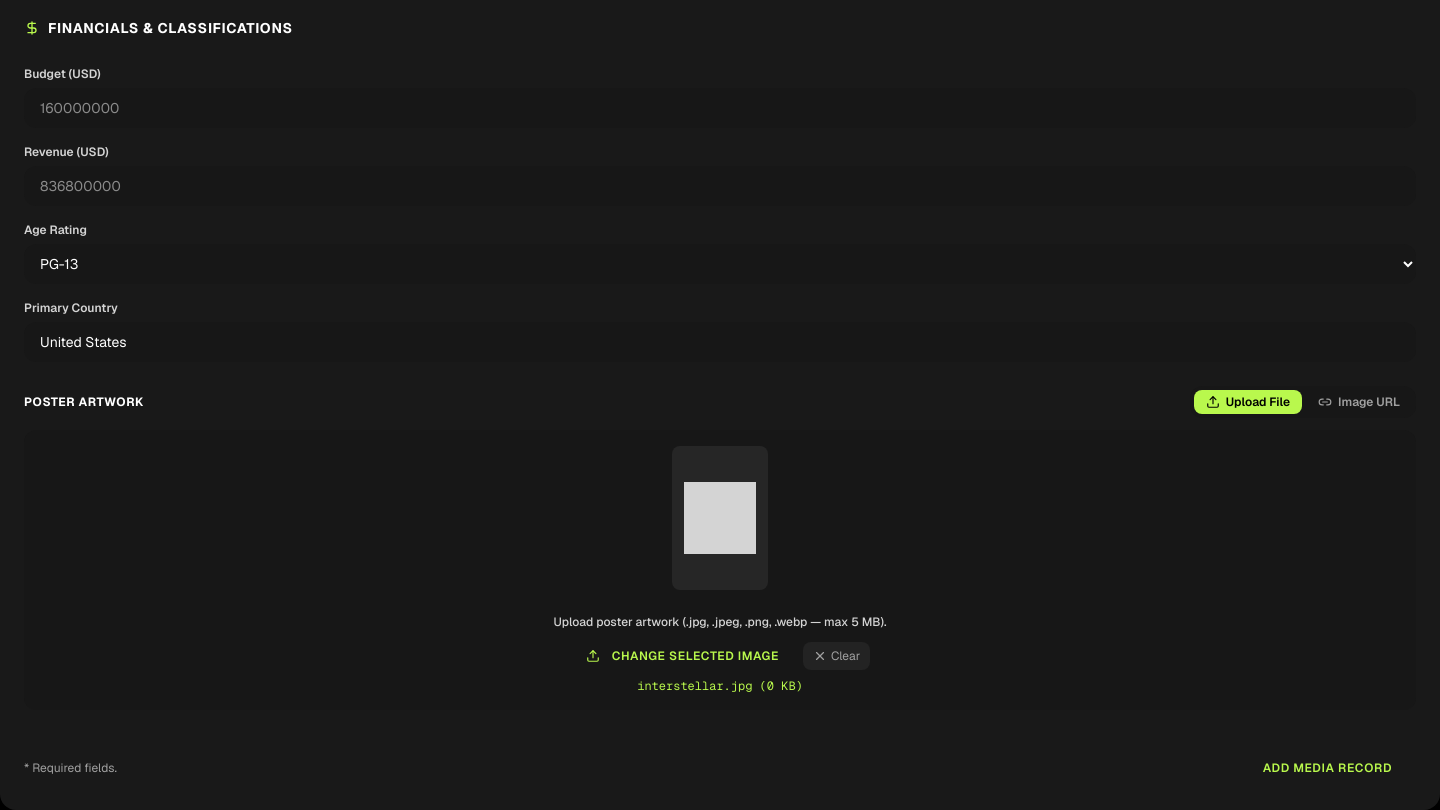
Test: AddMediaForm › uploads poster, submits parsed media payload, and resets form on success
Earlier steps of the test are not shown.
(page scrolled)
What coordinates should you click on to do the following:
click the button "Add Media Record"
I would click on:
 (1327, 768)
Its box is [1239,750,1416,786].
(page scrolled)
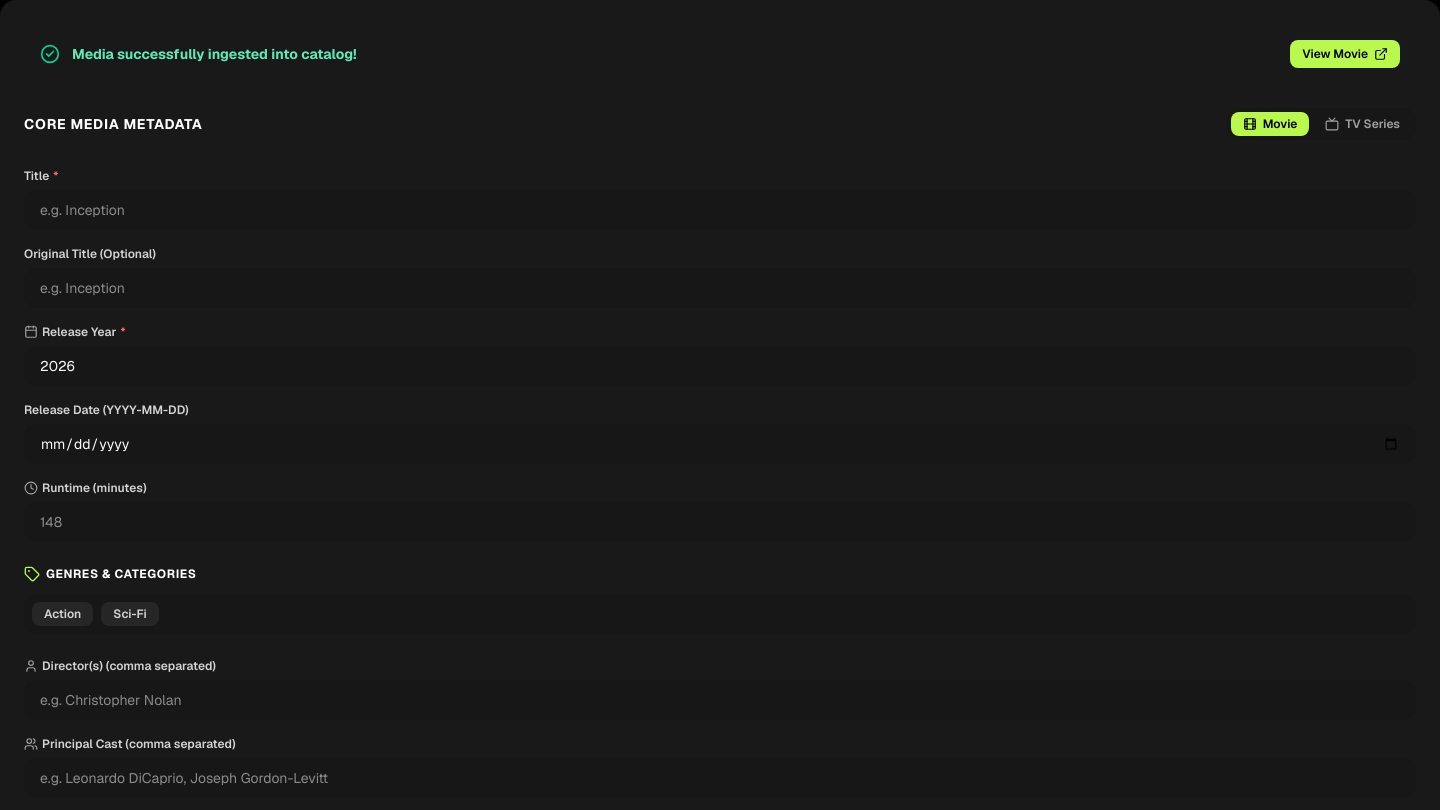
Result: the text "Media successfully ingested into catalog!" is shown at [72,44,357,64]
Result: the 1st field with placeholder "e.g. Inception" is empty at [24,190,1416,230]
